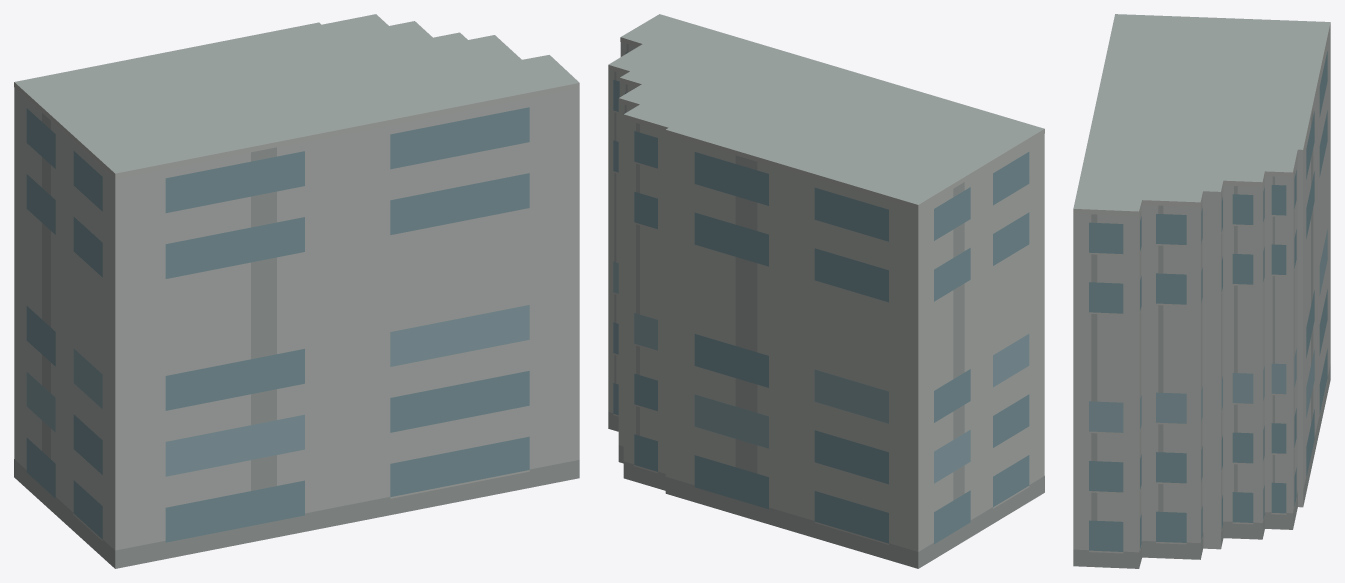
Rendered from survey-upis-32912042.glb.
3 views of the same model, side by side, from view 1: azimuth 30°, elevation 25°; view 2: azimuth 150°, elevation 25°; view 3: azimuth 270°, elevation 25° (orthographic). The views are drawn at different scales.
Parts seen in each view (by area): view 1: survey-upis-32912042.tmp; view 2: survey-upis-32912042.tmp; view 3: survey-upis-32912042.tmp.
Part boxes in pixels (box(x1,y1,x2,y2)): survey-upis-32912042.tmp: box(14, 14, 579, 568); survey-upis-32912042.tmp: box(608, 14, 1044, 568); survey-upis-32912042.tmp: box(1073, 14, 1330, 568).
Size of the model in its own units: 21.69 by 18.3 by 11.95.
